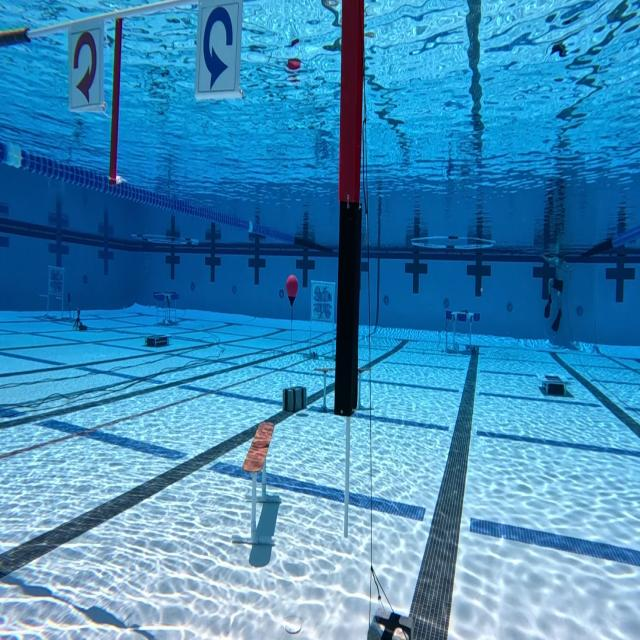blue_side: (196, 3, 247, 111)
red_side: (62, 20, 110, 110)
